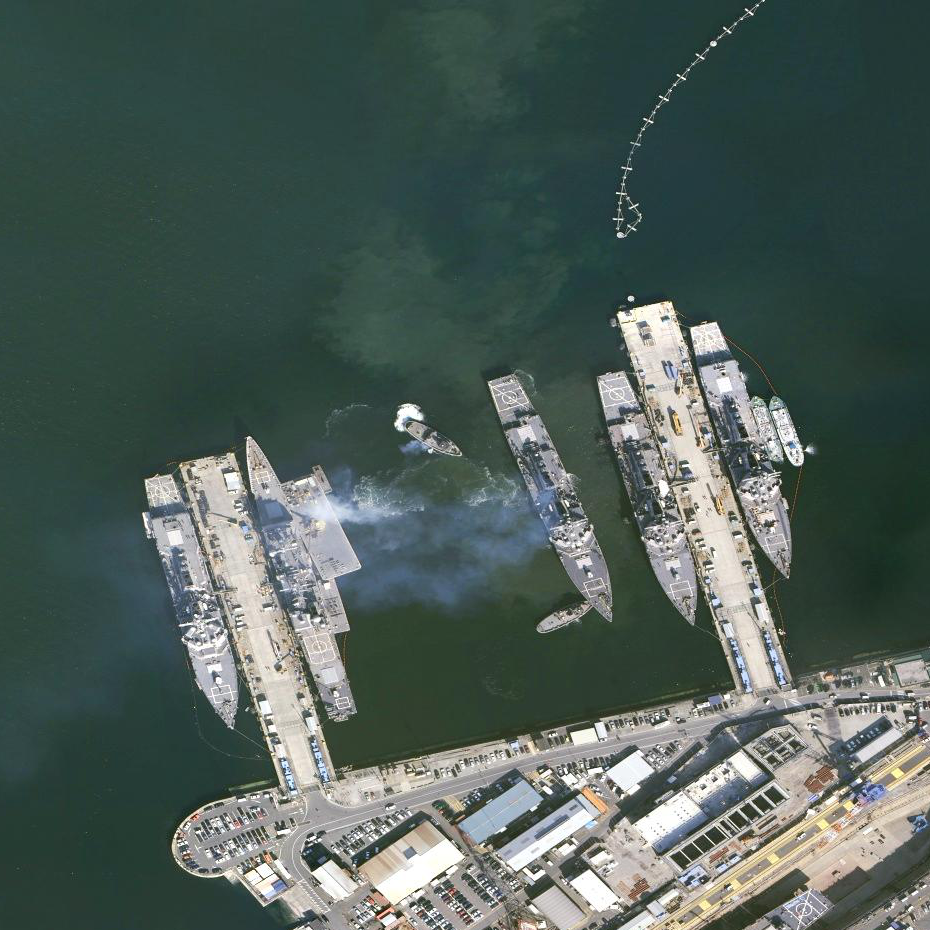Arleigh Burke DD: (479, 365, 631, 631), (588, 363, 712, 633), (684, 317, 804, 585), (142, 467, 250, 735)
Dock: (614, 295, 792, 705), (179, 446, 331, 796)
Motorboat: (334, 716, 350, 724)
Other Ship: (765, 393, 807, 471), (749, 391, 787, 467)
Other Warship: (401, 417, 467, 461), (531, 594, 597, 638)
Ticonderoga: (231, 431, 361, 723)
